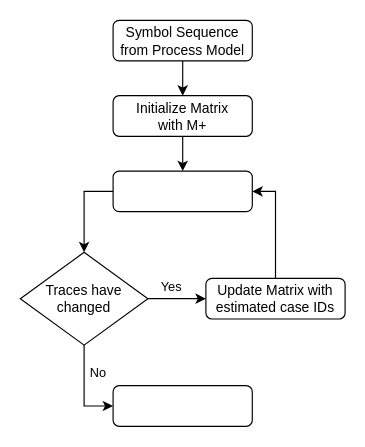
The diagram is 365 pixels wide and 447 high, and some of its shapes have lost their labels. Each missing label, with the centre of its shape:
"Estimate Traces / Case IDs" belongs at [182,191].
"Evaluate Traces with G-score" belongs at [182,405].
